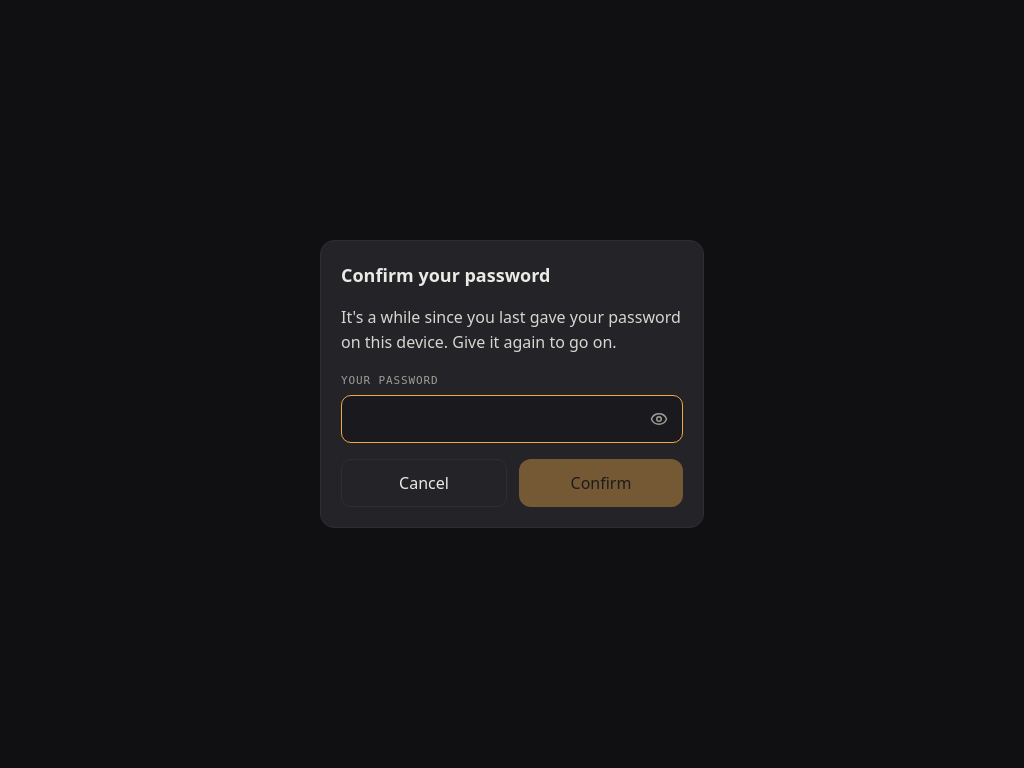
Test: PasswordPrompt › cancels the action on Cancel
This screenshot has width=1024, height=768.
Step 1. Type "half typed" into the password field labelled "Your password" → point(512, 419), box [341,395,683,443]
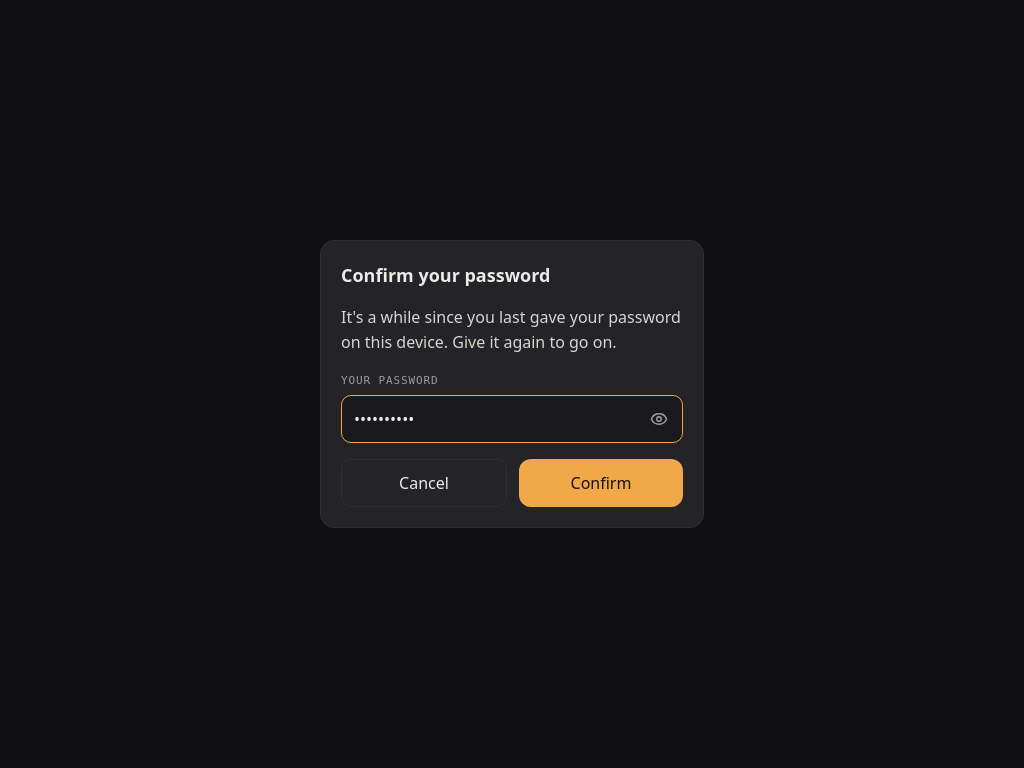
Step 2. Click the button "Cancel" → point(424, 483), box [341,459,507,507]
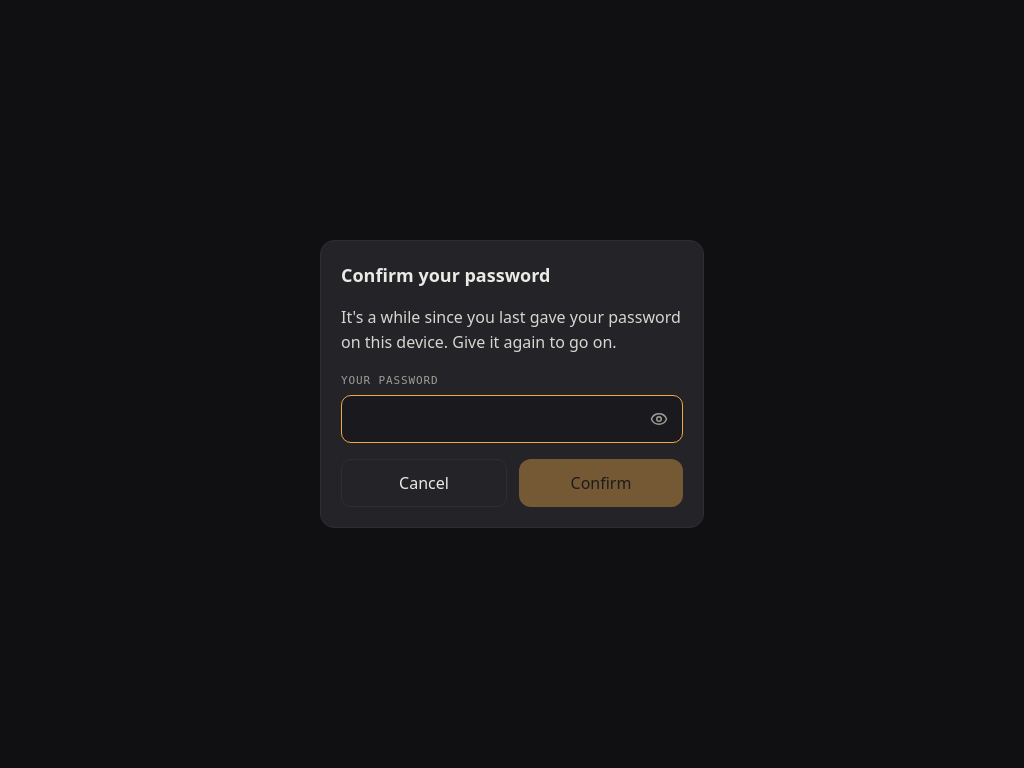
Now the password field labelled "Your password" is empty, box [341,395,683,443]
